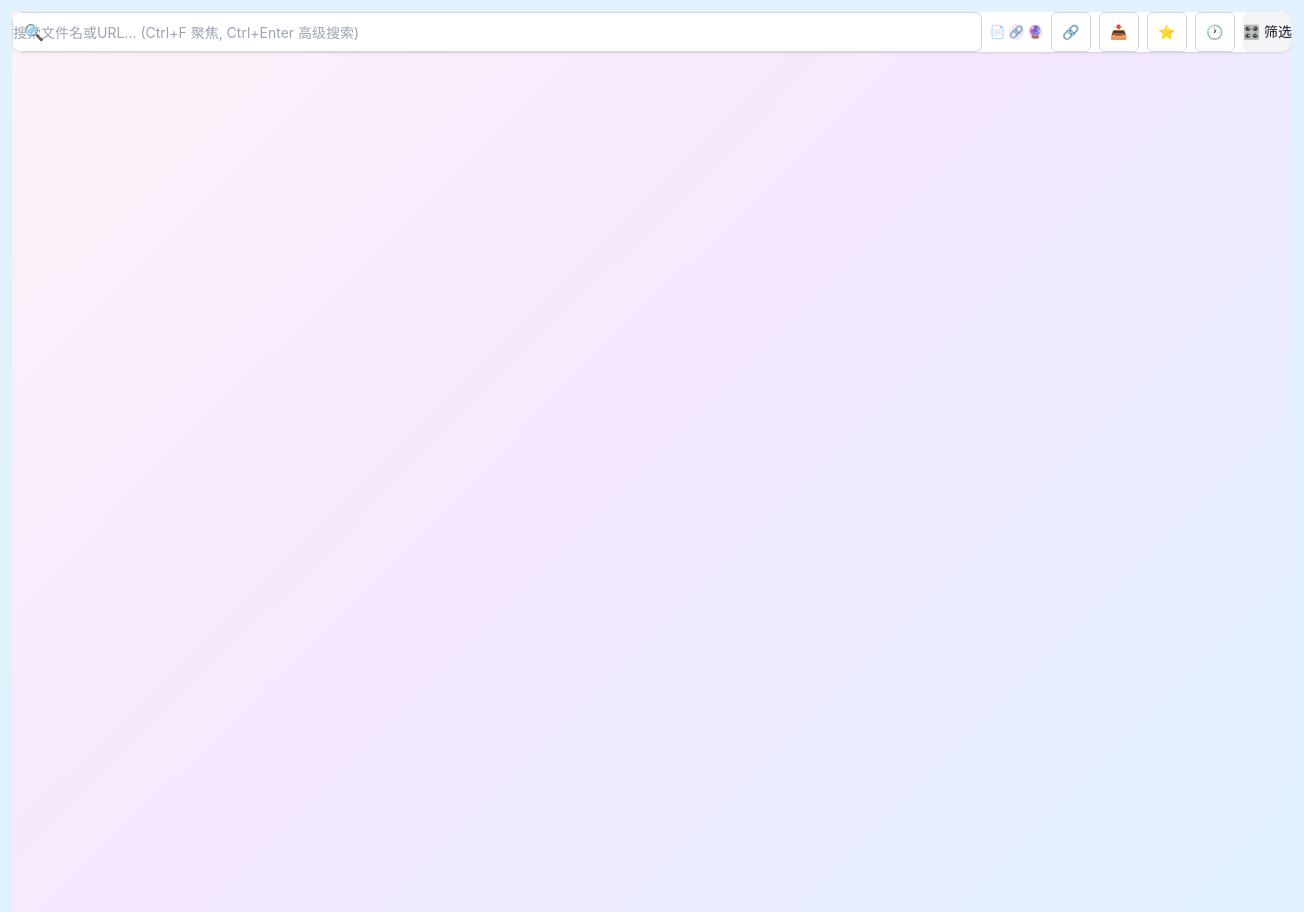
Test: SearchFilter Component › should clear keyword when clear button is clicked
The width and height of the screenshot is (1304, 912).
Type "test" into the field with placeholder "搜索文件名或URL... (Ctrl+F 聚焦, Ctrl+Enter 高级搜索)" at (497, 32), box [12,12,982,52]
Wait 300 ms
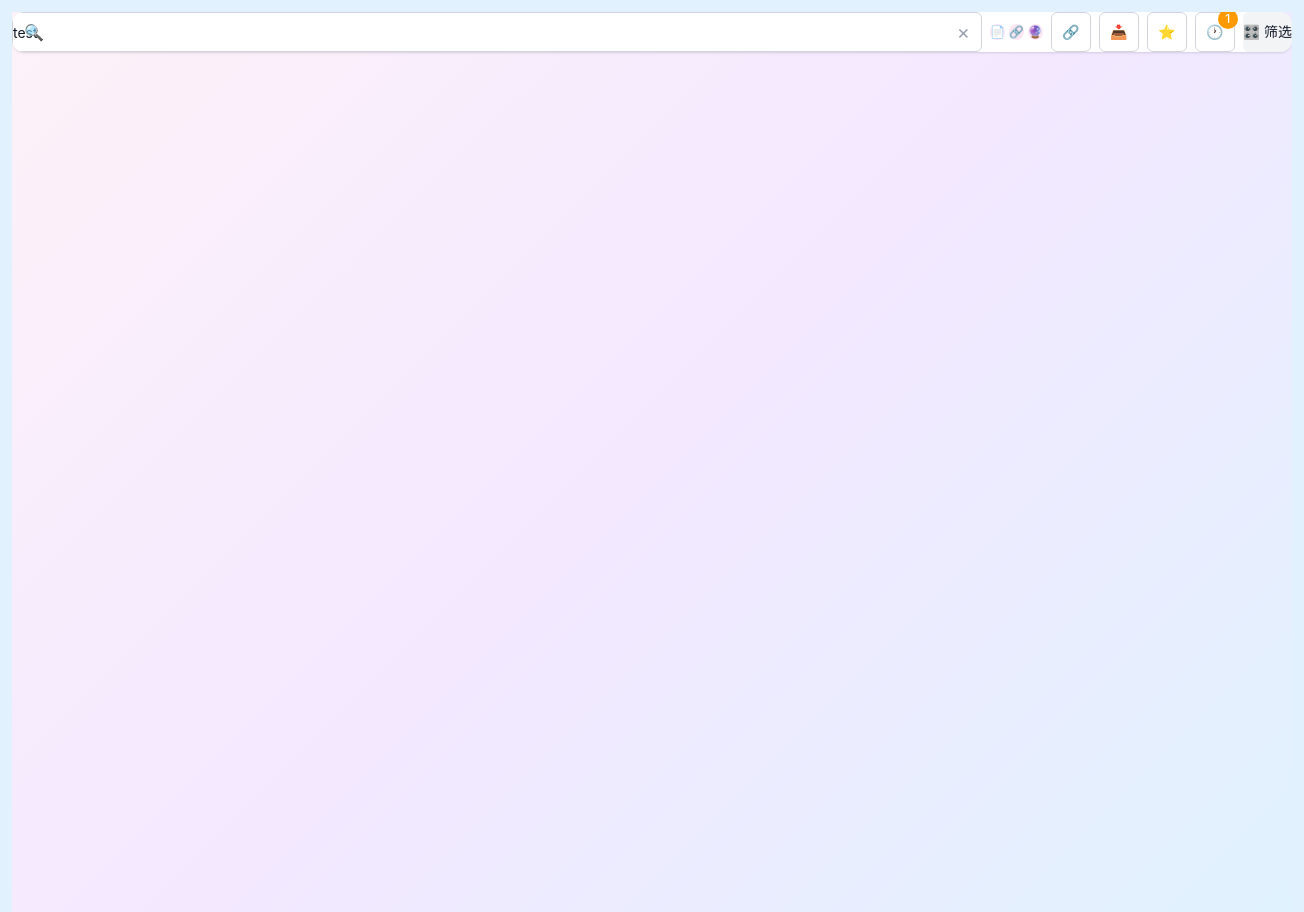
Click the button "×" at (963, 32), box [957,22,970,42]
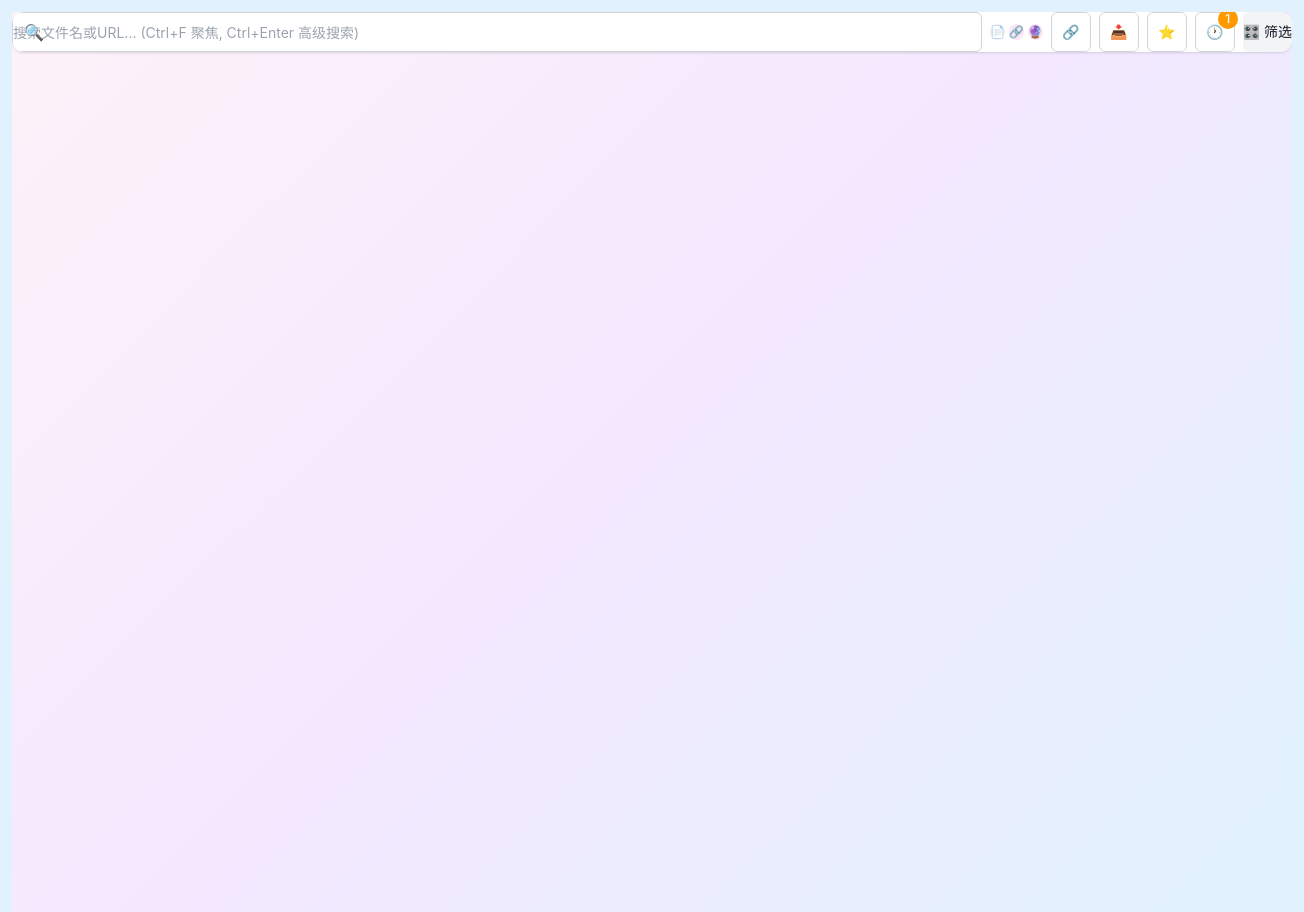
expect the field with placeholder "搜索文件名或URL... (Ctrl+F 聚焦, Ctrl+Enter 高级搜索)" is empty: met, box [12,12,982,52]
